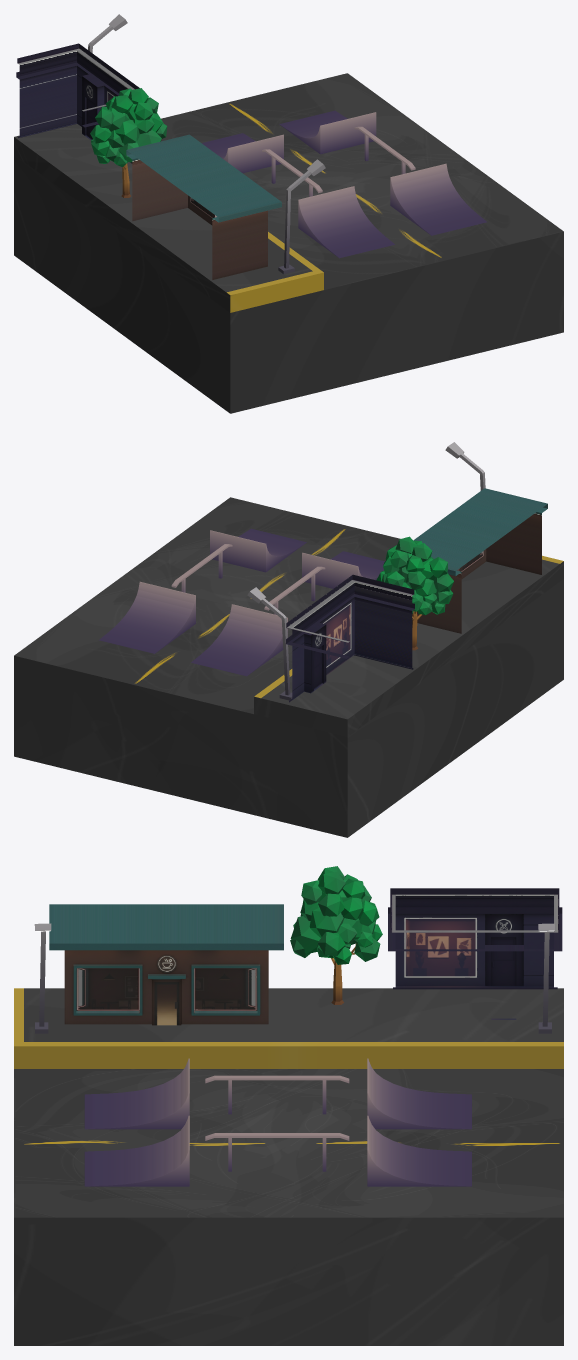
The model's file is minimap-street.glb.
3 views of the same model, one above another, from view 1: azimuth 30°, elevation 25°; view 2: azimuth 150°, elevation 25°; view 3: azimuth 270°, elevation 25° (orthographic). The views are drawn at different scales.
Parts seen in each view (by area): view 1: Ramp.003; view 2: Ramp.003; view 3: Ramp.003.
Boxes of the visible parts, x1,y1,x2,y2 form: Ramp.003: [14, 14, 563, 413]; Ramp.003: [14, 442, 563, 837]; Ramp.003: [14, 866, 563, 1345].
Size of the model in its own units: 1.85 by 1.14 by 2.
Materials: 14 (12 with a texture image).
